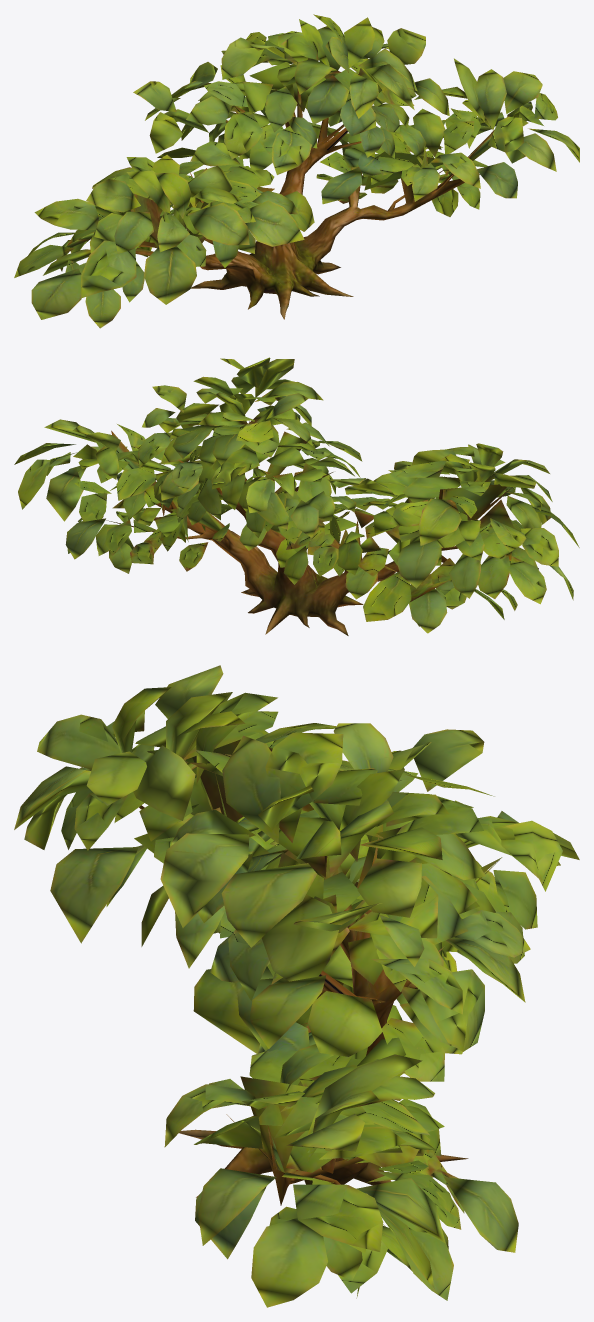
The model's file is shrub.glb.
3 renders of one model, top to bottom at view 1: azimuth 30°, elevation 25°; view 2: azimuth 150°, elevation 25°; view 3: azimuth 270°, elevation 25°, orthographic. The views are drawn at different scales.
Parts seen in each view (by area): view 1: geometry_0; view 2: geometry_0; view 3: geometry_0.
Boxes of the visible parts, bbox=[...] form: geometry_0: bbox=[14, 14, 579, 328]; geometry_0: bbox=[14, 357, 579, 635]; geometry_0: bbox=[14, 665, 579, 1307].
Bounding box in the file's own units: 0.9653 × 0.4189 × 0.4565.
Materials: 1 (1 with a texture image).
